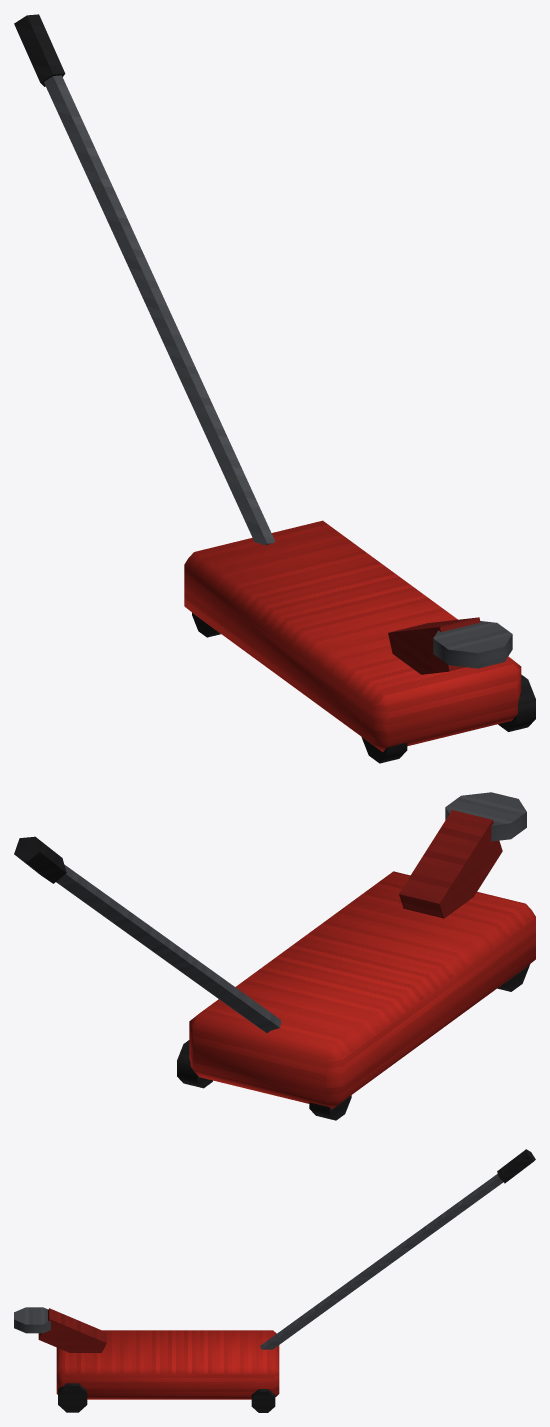
File: macaco_hidraulico.glb
3 renders of one model, top to bottom at view 1: azimuth 30°, elevation 25°; view 2: azimuth 150°, elevation 25°; view 3: azimuth 270°, elevation 25°, orthographic. The views are drawn at different scales.
Visible parts, largest first — view 1: Inteiro; view 2: Inteiro; view 3: Inteiro.
Part boxes in pixels (x1=…): Inteiro: x1=14, y1=14, x2=535, y2=763; Inteiro: x1=14, y1=792, x2=535, y2=1120; Inteiro: x1=14, y1=1149, x2=535, y2=1412.
Size of the model in its own units: 0.32 by 0.8323 by 1.64.
1 material, 1 textured.
